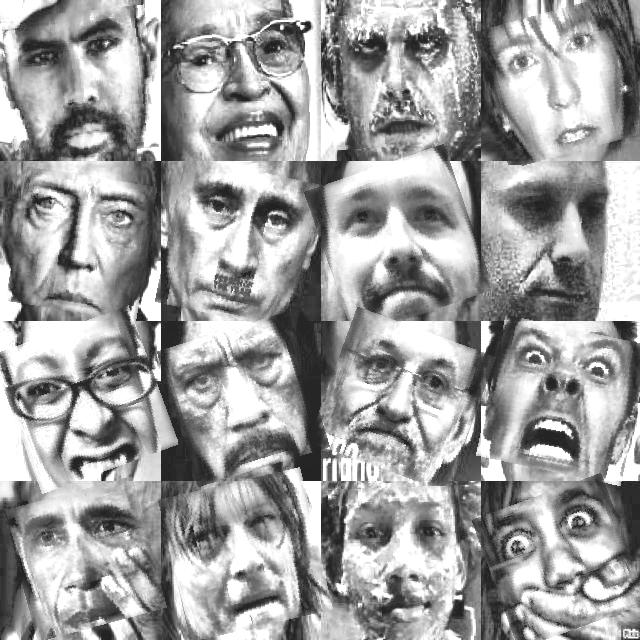angry: (2, 316, 168, 484), (482, 322, 640, 479), (166, 320, 322, 478), (4, 8, 156, 158), (11, 172, 153, 316)
fear: (481, 482, 639, 640)
happy: (168, 10, 314, 156)
neutral: (315, 154, 483, 328), (318, 318, 486, 482), (162, 162, 320, 324), (481, 1, 640, 160), (330, 486, 480, 639), (327, 10, 479, 148)
sad: (166, 475, 326, 635), (10, 484, 160, 634), (492, 166, 634, 308)
